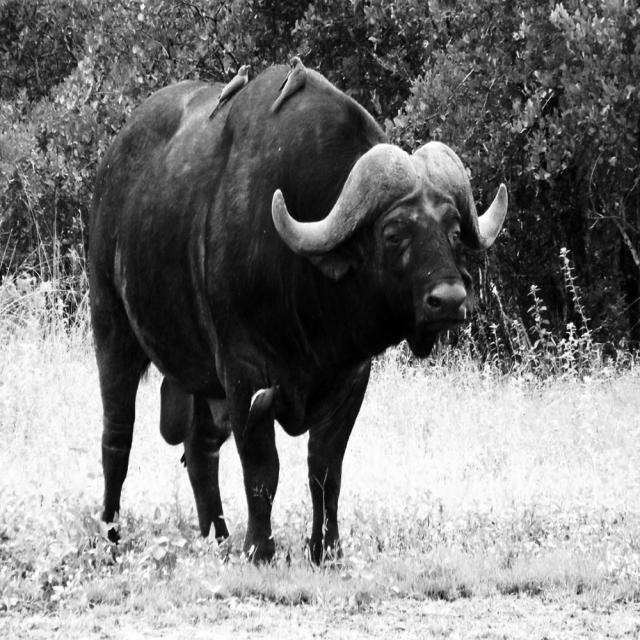Buffalo: (84, 63, 509, 573)
